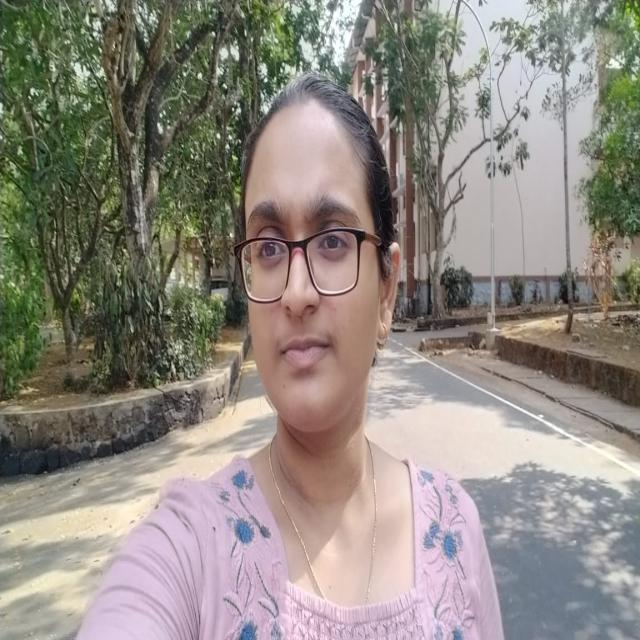person ahead at: (171, 41, 496, 640)
